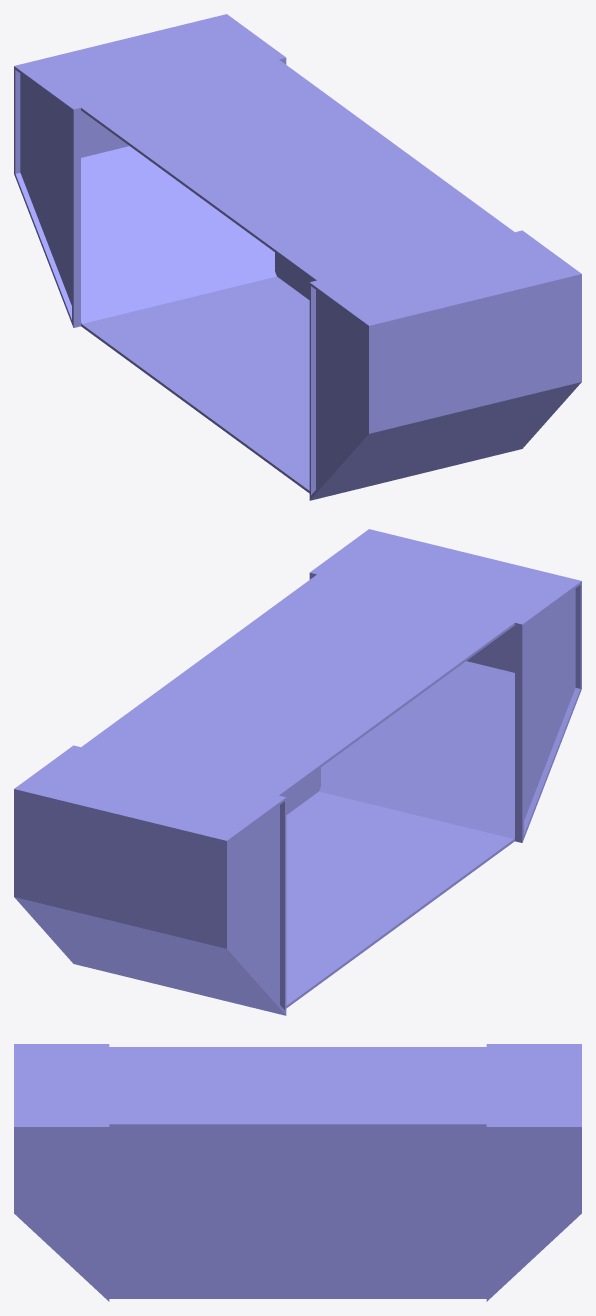
File: PartBody 4.FBX
3 views of the same model, one above another, from view 1: azimuth 30°, elevation 25°; view 2: azimuth 150°, elevation 25°; view 3: azimuth 270°, elevation 25° (orthographic). The views are drawn at different scales.
Parts seen in each view (by area): view 1: PartBody; view 2: PartBody; view 3: PartBody.
Part boxes in pixels (left/top/right/bottom): PartBody: left=14, top=14, right=581, bottom=500; PartBody: left=14, top=529, right=581, bottom=1015; PartBody: left=14, top=1044, right=581, bottom=1301.
Bounding box in the file's own units: 165 × 477 × 162.
